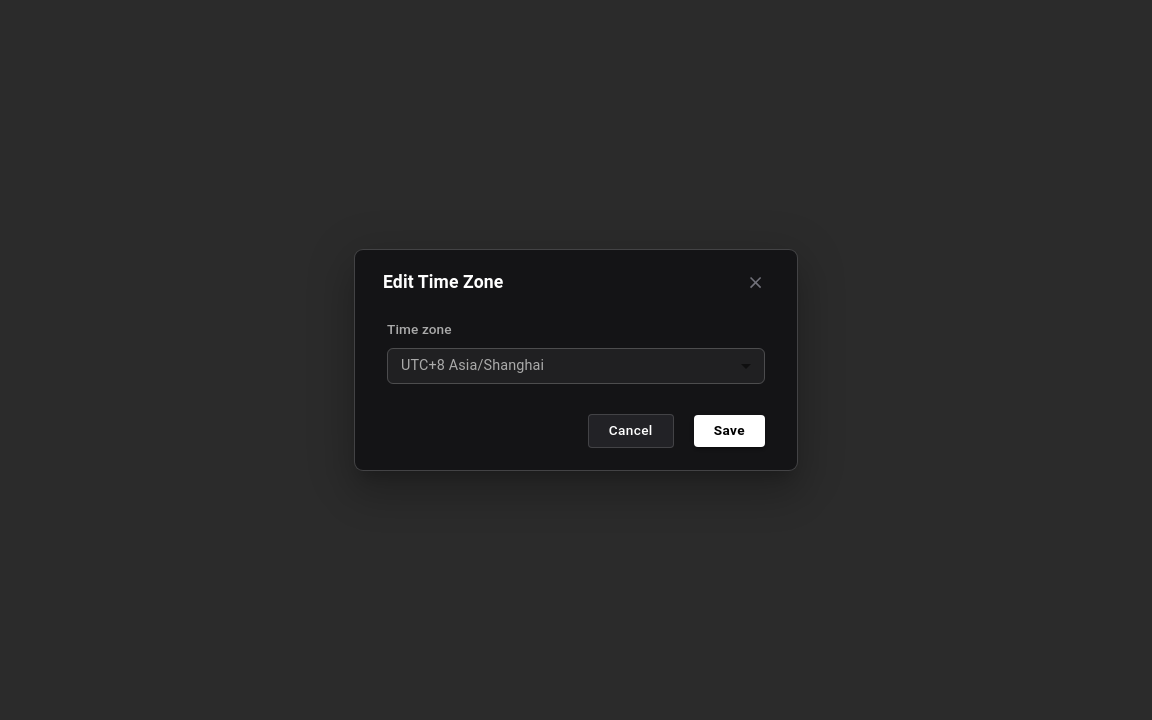
Test case: EditTimezoneModal Component › clears error message when selecting a different timezone value
Click the button "Save" at (729, 431), box [694,415,765,447]
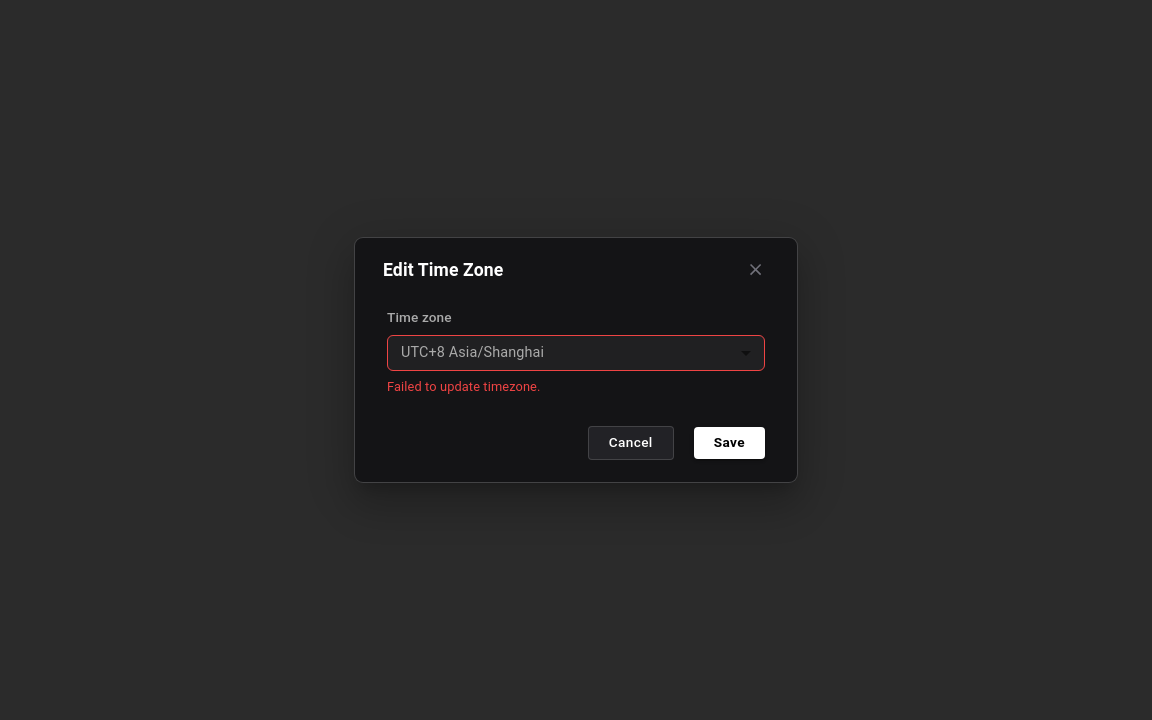
Check: the text "Failed to update timezone." is shown, box [387,379,540,394]
Press the mouse on the dropdown at (473, 352), box [401,344,544,361]
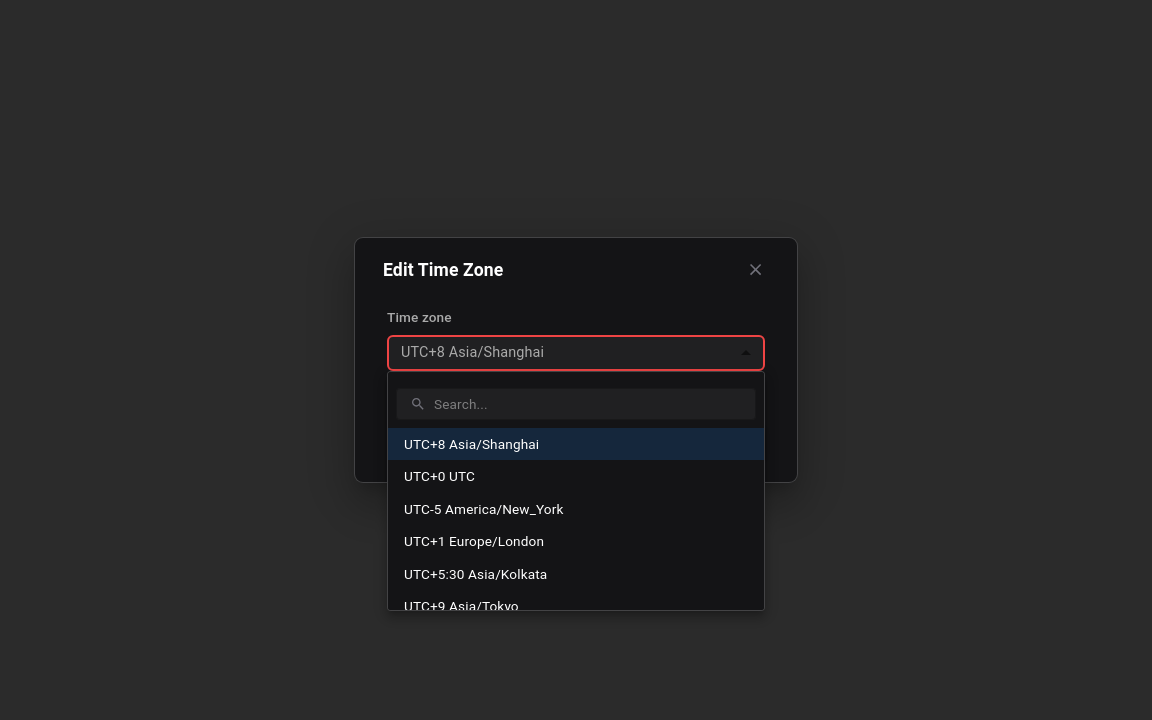
Click the option "UTC+0 UTC" at (440, 476), box [404,468,475,484]
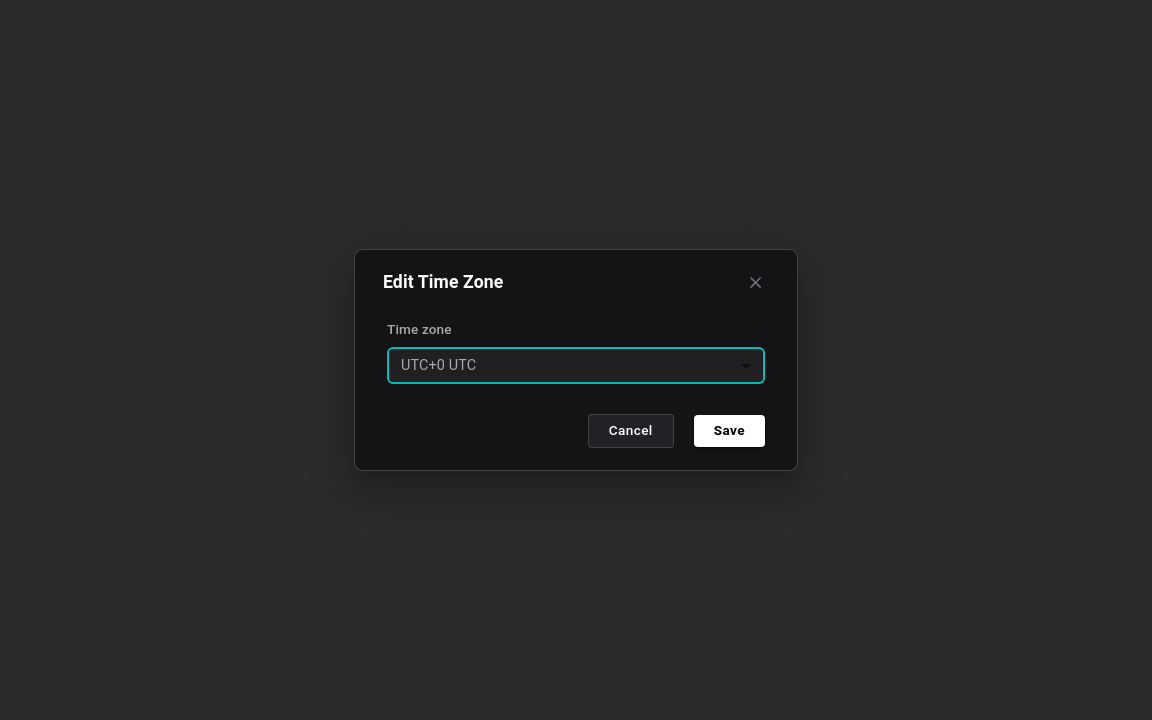
Check: the text "Failed to update timezone." is gone
